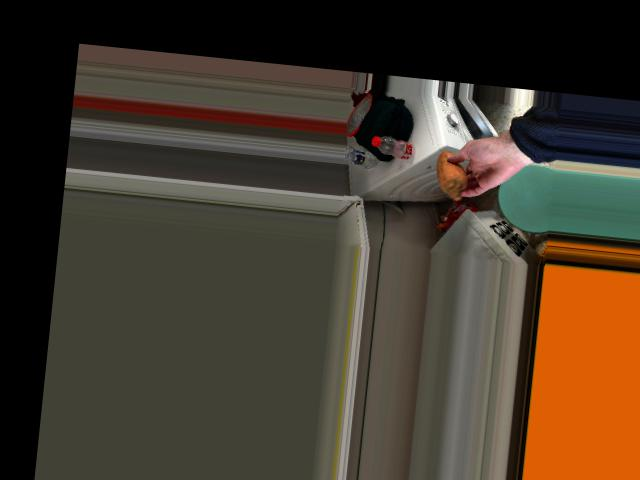sweet_potato: (434, 152, 474, 196)
